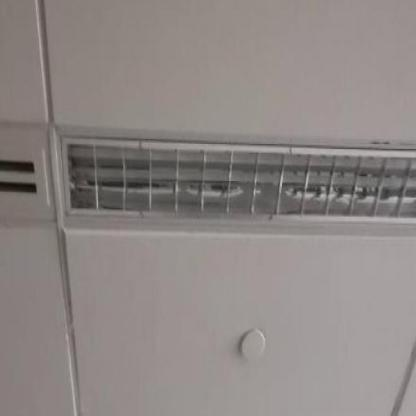light_off: (44, 94, 415, 254)
